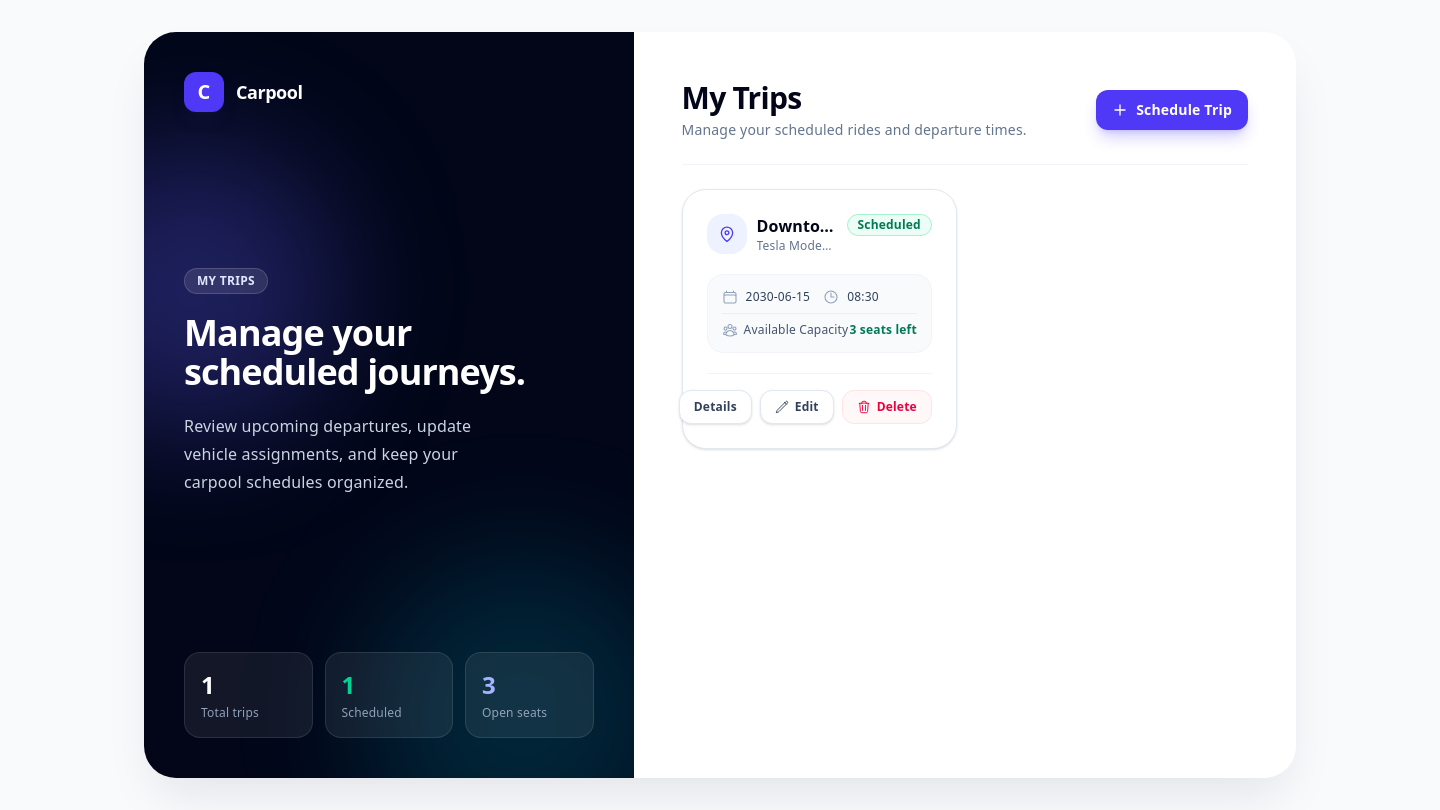
TripsPage › successfully deletes a trip via confirmation modal and displays feedback banner
Click the button with aria-label "delete trip downtown express" at coordinates (887, 407), box [842,390,932,424]
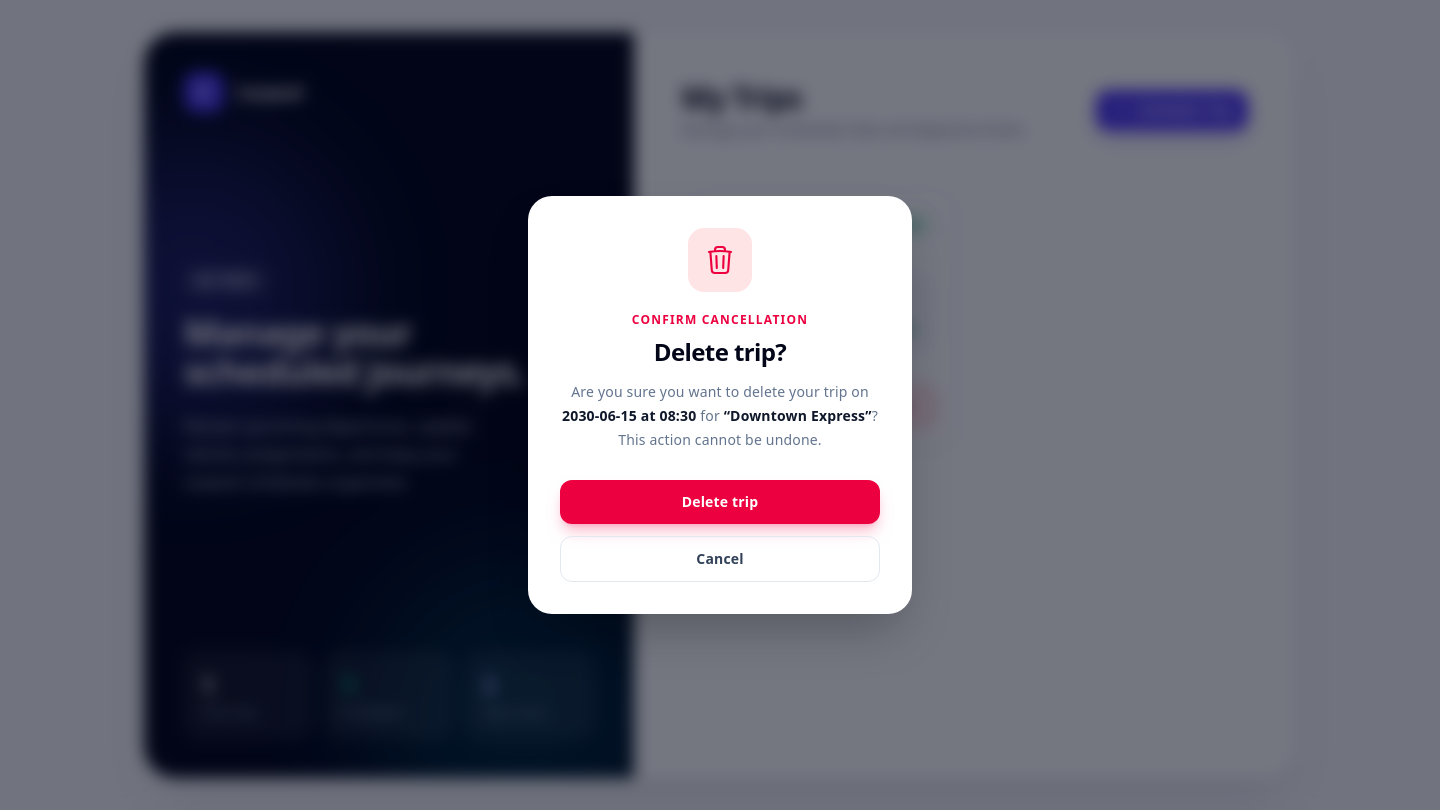
Click the button "Delete trip" at coordinates (720, 502), box [560,480,880,524]
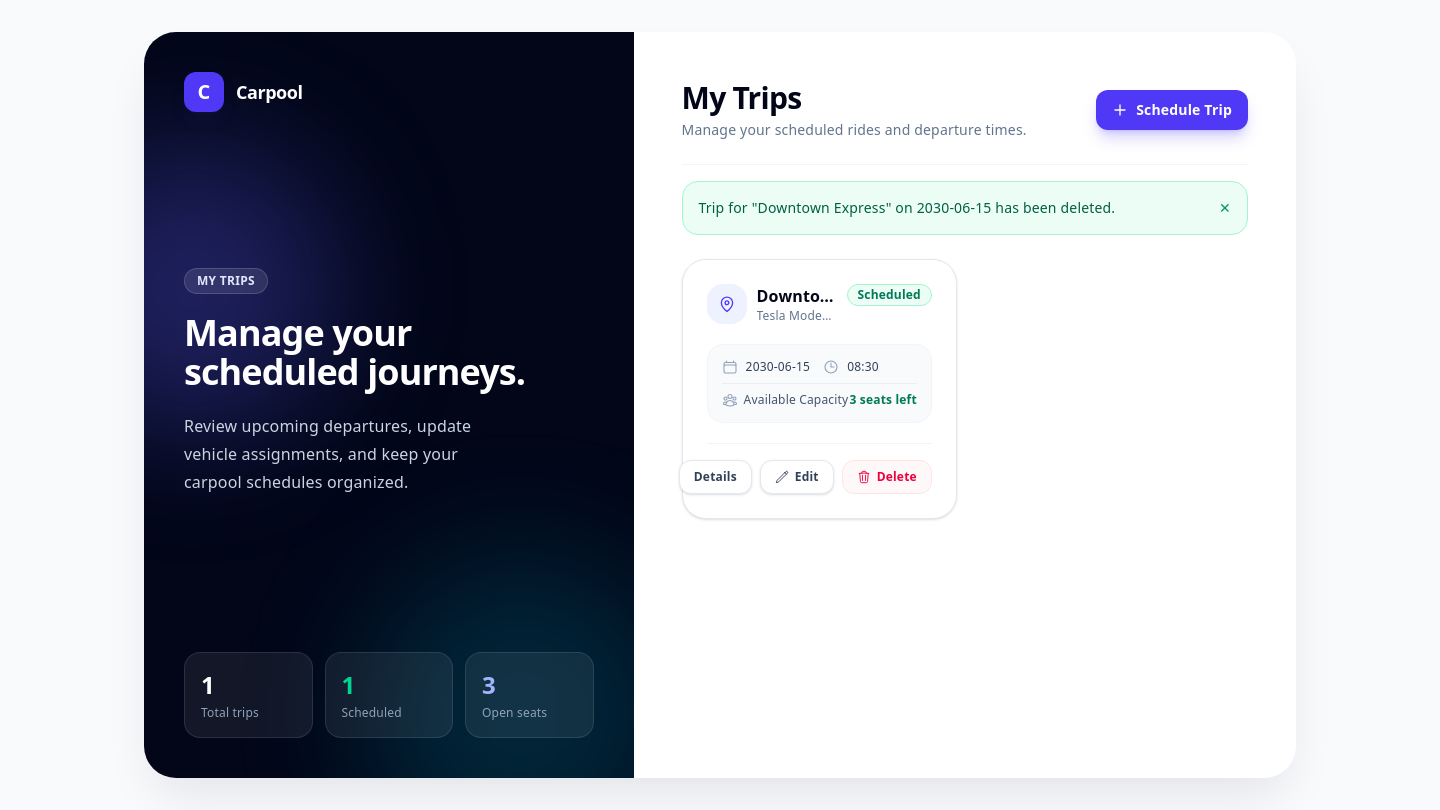
Check: the text "Trip for \"Downtown Express\" on 2030-06-15 has been deleted." is shown, box [699,198,1115,218]
